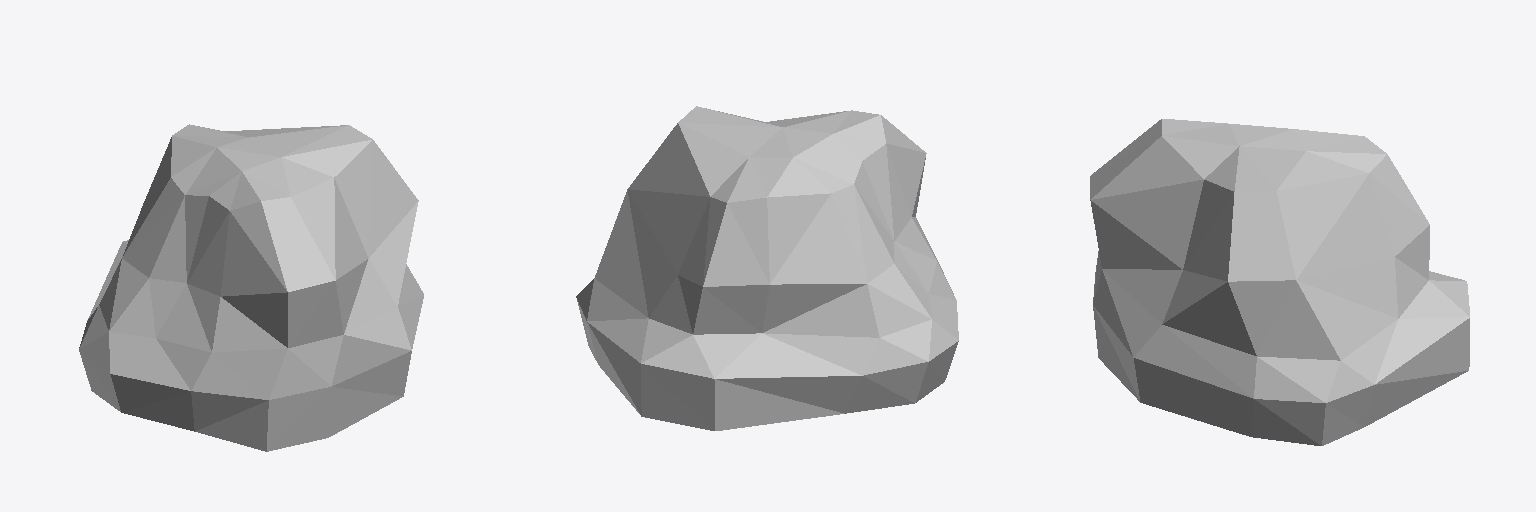
The model's file is Big Rock.obj.
3 renders of one model, left to right at view 1: azimuth 30°, elevation 25°; view 2: azimuth 150°, elevation 25°; view 3: azimuth 270°, elevation 25°, orthographic.
Visible parts, largest first — view 1: BigRock1_Cube.025; view 2: BigRock1_Cube.025; view 3: BigRock1_Cube.025.
Part boxes in pixels (x1,y1,x2,y2): BigRock1_Cube.025: (79,124,423,451); BigRock1_Cube.025: (576,106,958,430); BigRock1_Cube.025: (1090,119,1469,445).
Size of the model in its own units: 14.75 by 9.43 by 14.39.